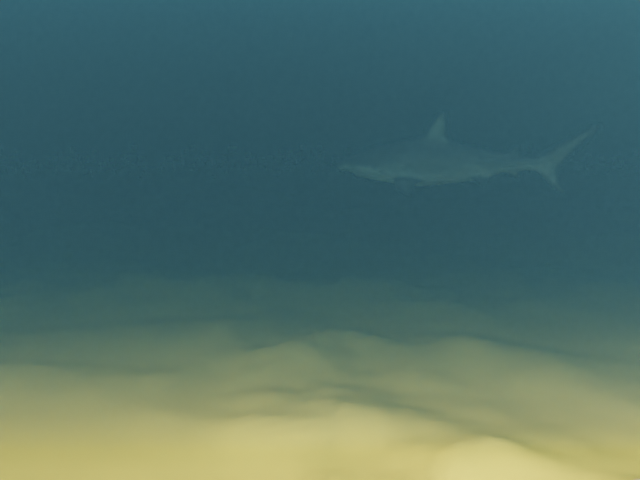Carribean Shark.001: (336, 112, 600, 196)
